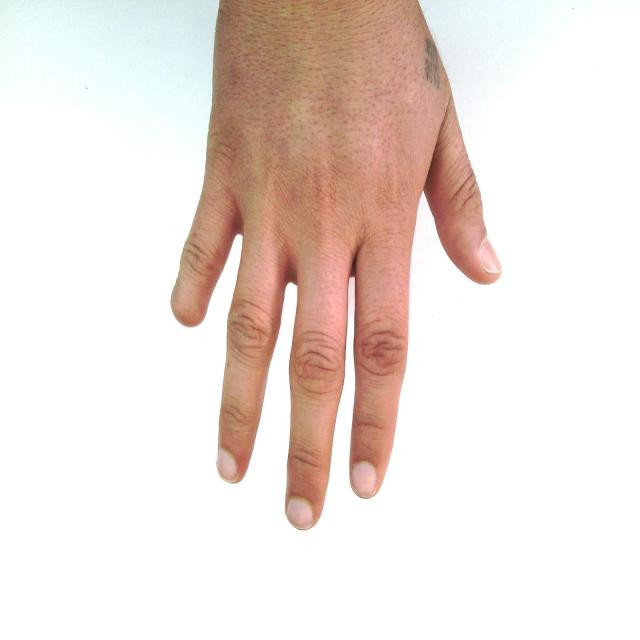Fingernail: (352, 463, 377, 498), (287, 498, 313, 529), (218, 449, 238, 482), (481, 240, 501, 273)
